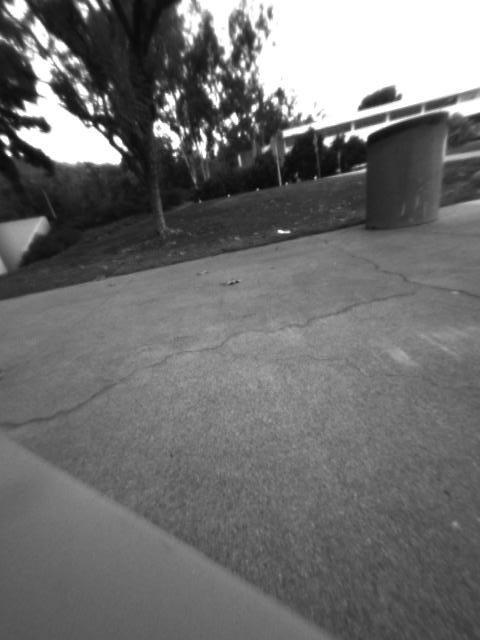trashcan: (363, 107, 445, 232)
